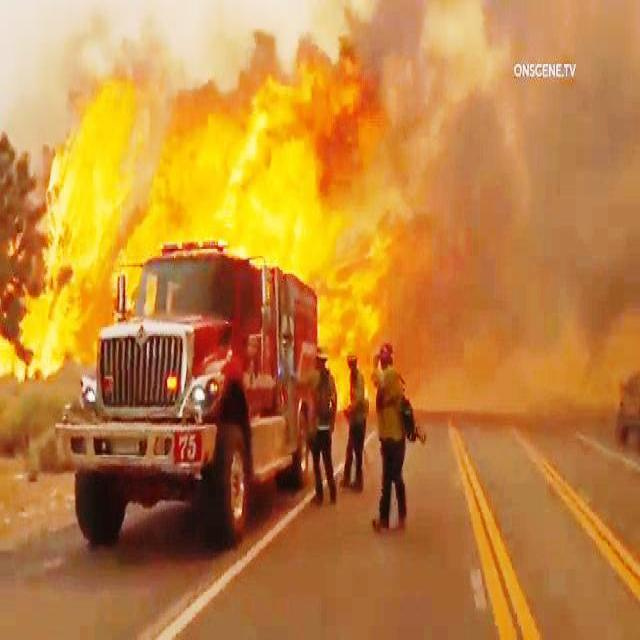Fire: (0, 53, 154, 331), (168, 36, 356, 246), (314, 223, 398, 332)
Smoke: (460, 114, 630, 370)
